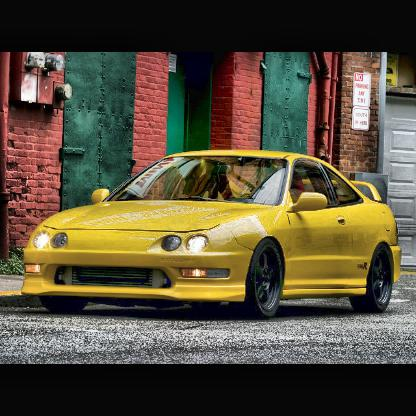Acura Integra Type R 2001: (22, 150, 402, 318)
